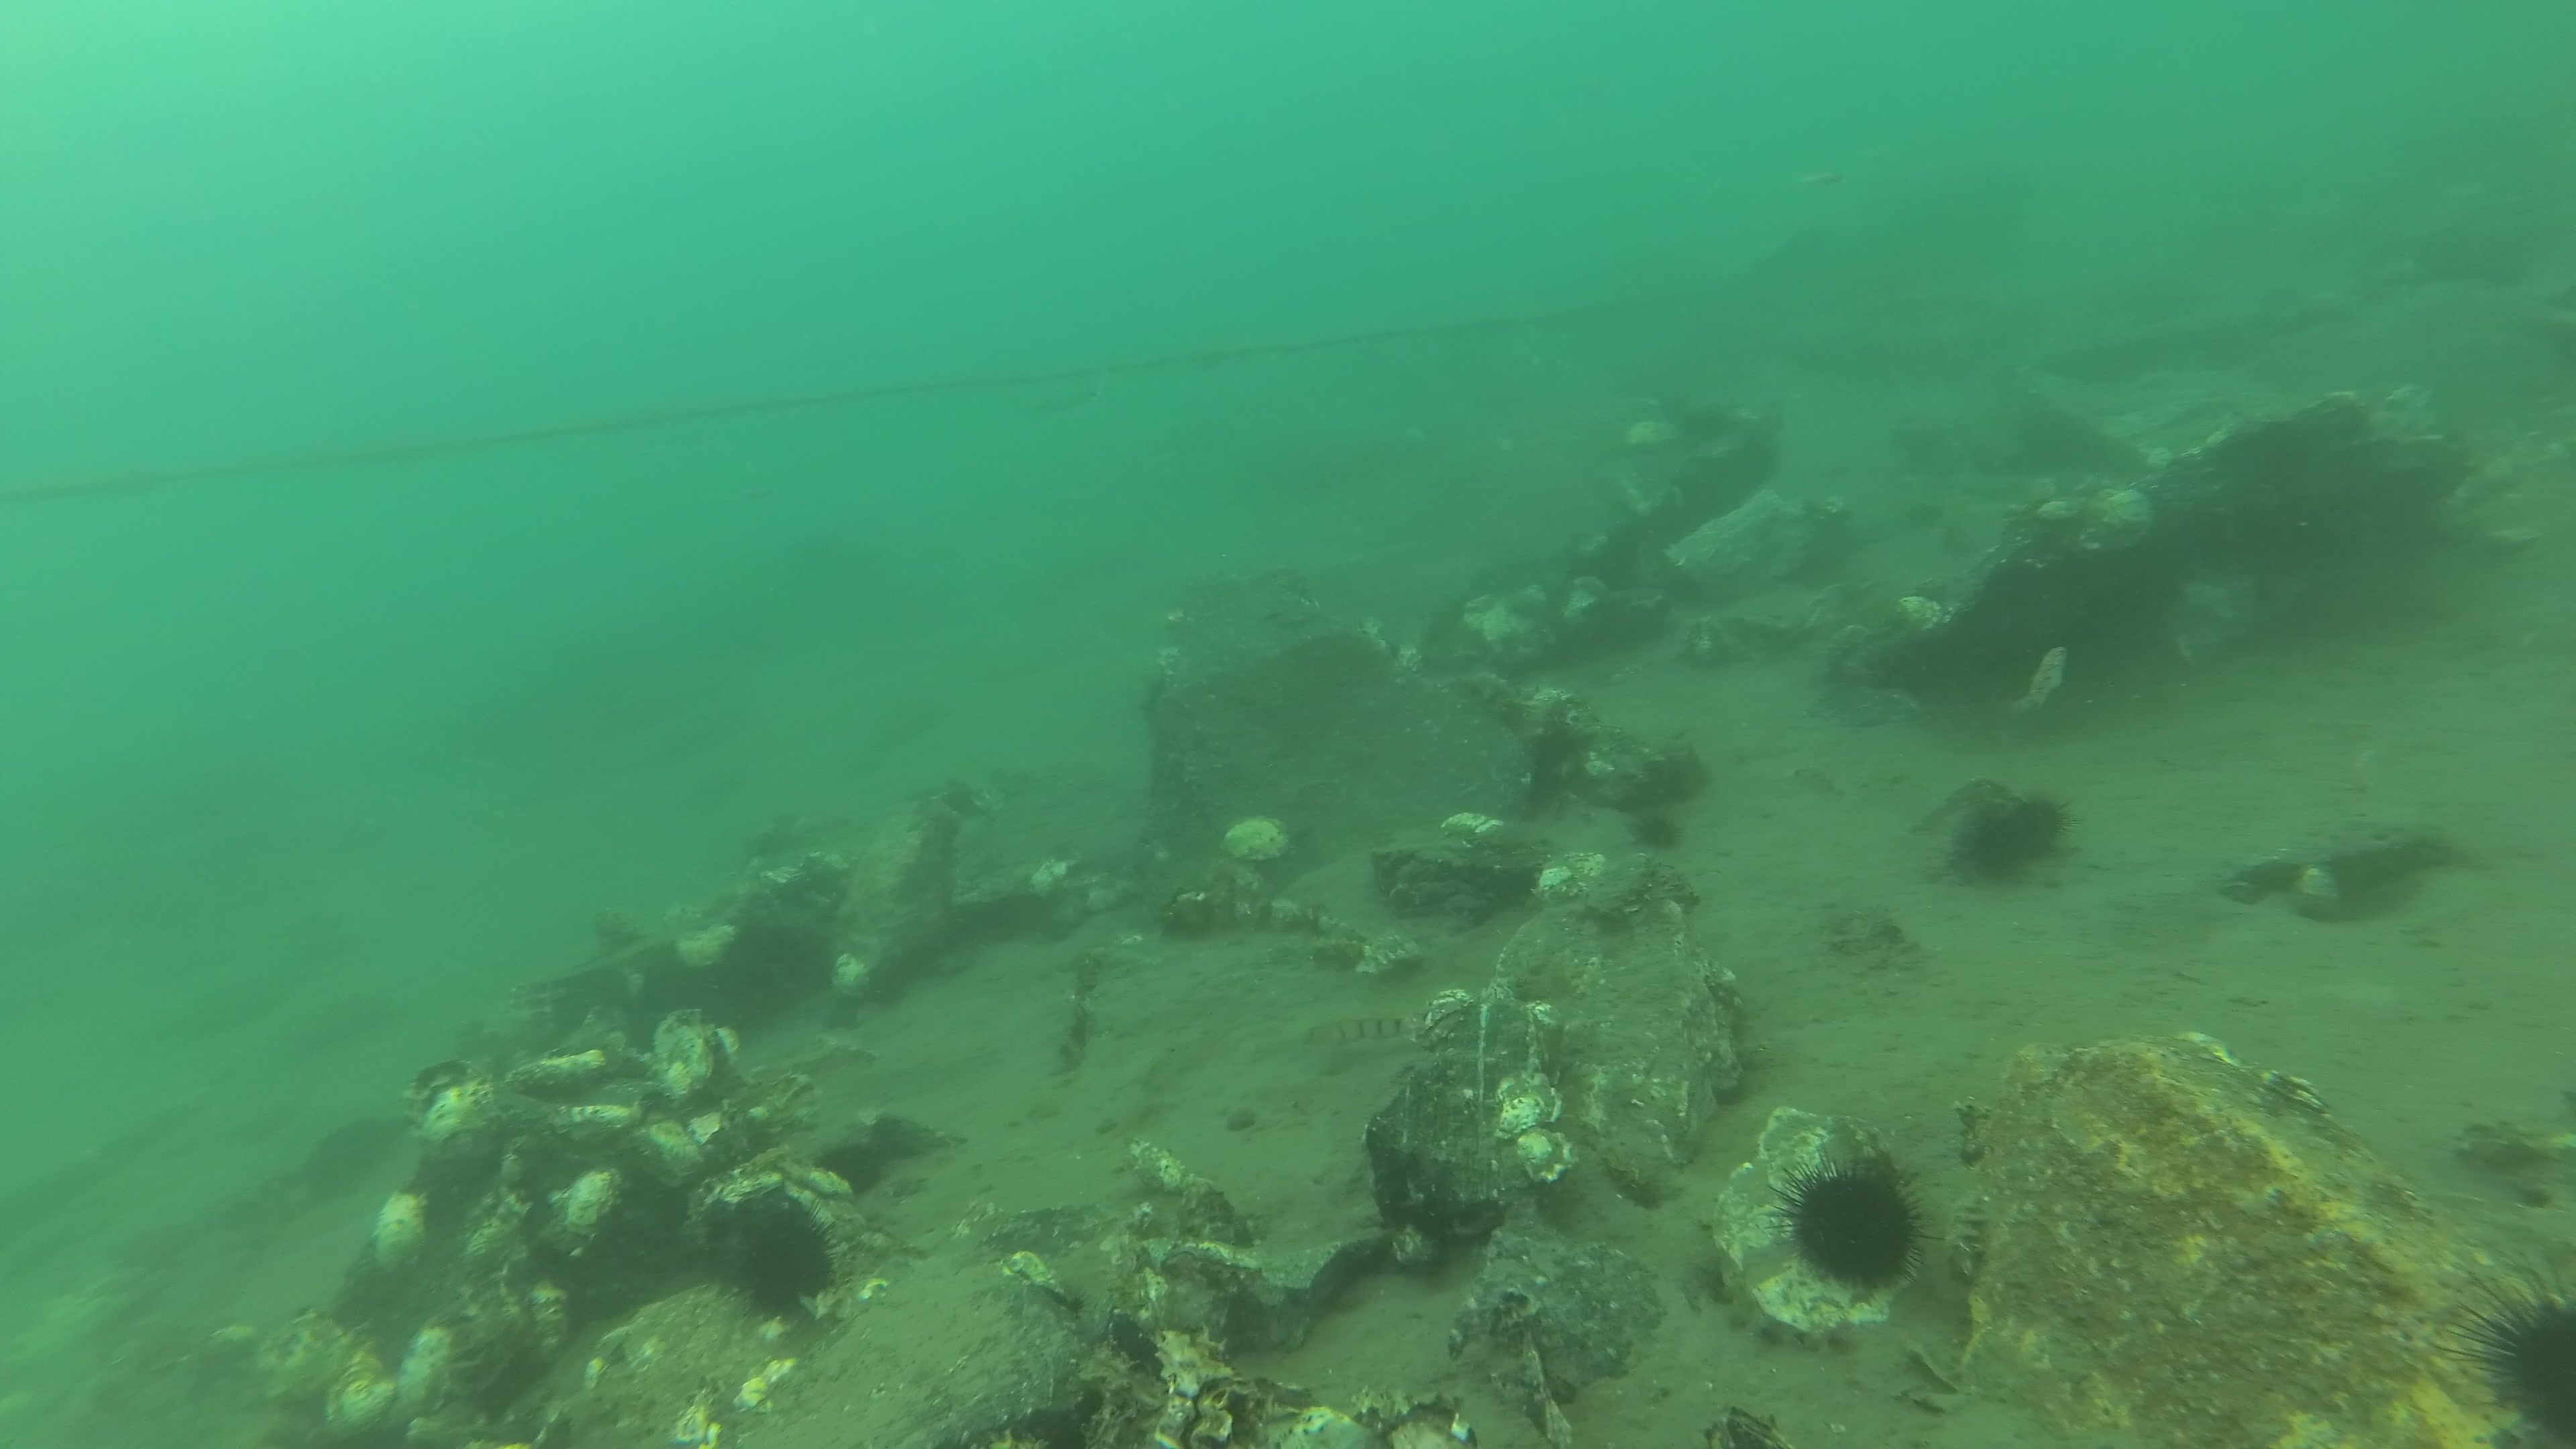echinus: (2429, 1244, 2576, 1449), (1762, 1136, 1948, 1292), (727, 1194, 846, 1320), (1967, 814, 2029, 876), (2022, 794, 2084, 853), (814, 1146, 883, 1196), (1624, 814, 1686, 849)
